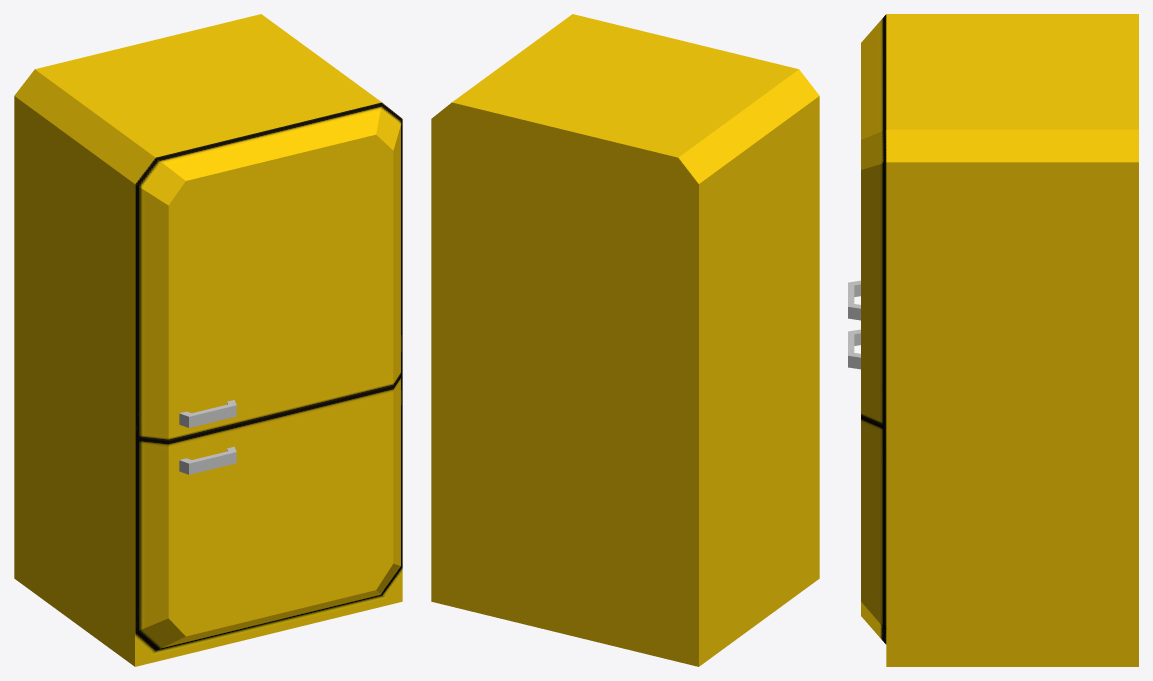
Rendered from refrigerator1_PLY.fbx.
3 renders of one model, left to right at view 1: azimuth 30°, elevation 25°; view 2: azimuth 150°, elevation 25°; view 3: azimuth 270°, elevation 25°, orthographic. The views are drawn at different scales.
Parts seen in each view (by area): view 1: refrigerator1_PLY; view 2: refrigerator1_PLY; view 3: refrigerator1_PLY.
Part boxes in pixels (x1=…): refrigerator1_PLY: x1=14, y1=14, x2=402, y2=666; refrigerator1_PLY: x1=431, y1=14, x2=819, y2=666; refrigerator1_PLY: x1=848, y1=14, x2=1138, y2=666.
Size of the model in its own units: 2.15 by 3.86 by 1.93.
